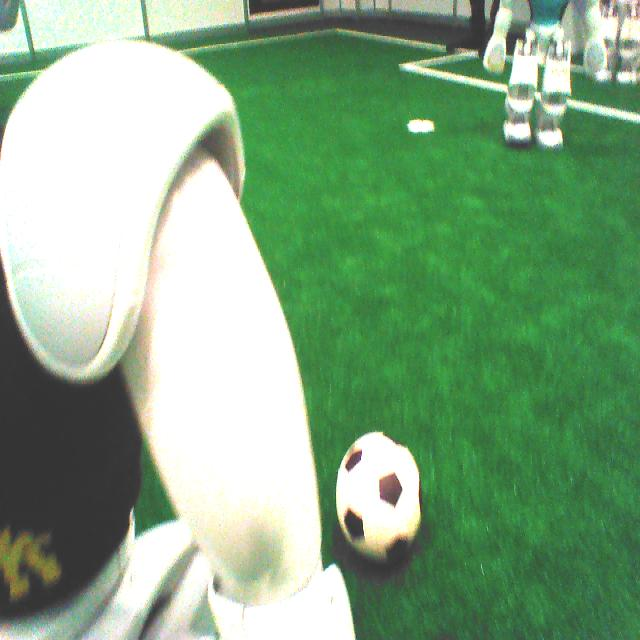ball: (332, 431, 424, 566)
